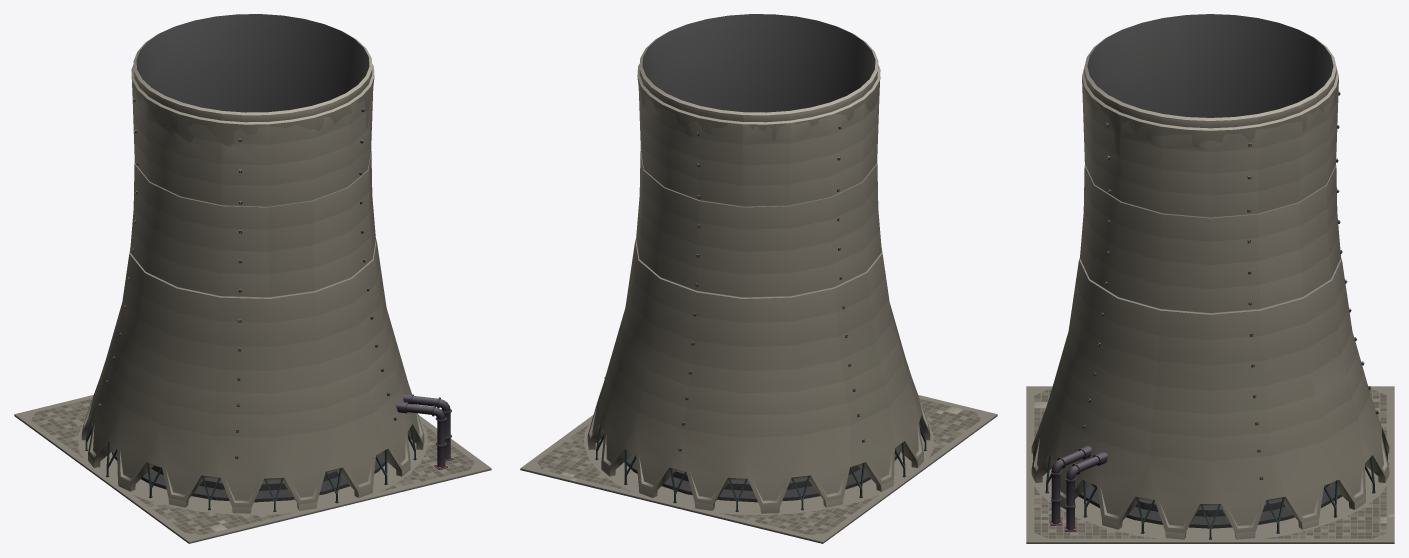
File: Cooling_Tower_2A.fbx
The picture shows the model from 3 angles, left to right: view 1: azimuth 30°, elevation 25°; view 2: azimuth 150°, elevation 25°; view 3: azimuth 270°, elevation 25°; orthographic projection. The views are drawn at different scales.
Parts seen in each view (by area): view 1: Cooling_Tower_2A; view 2: Cooling_Tower_2A; view 3: Cooling_Tower_2A.
Boxes of the visible parts, bbox=[...] form: Cooling_Tower_2A: bbox=[14, 14, 491, 543]; Cooling_Tower_2A: bbox=[520, 14, 997, 543]; Cooling_Tower_2A: bbox=[1026, 14, 1394, 543].
Bounding box in the file's own units: 5000 × 5999 × 5000.
